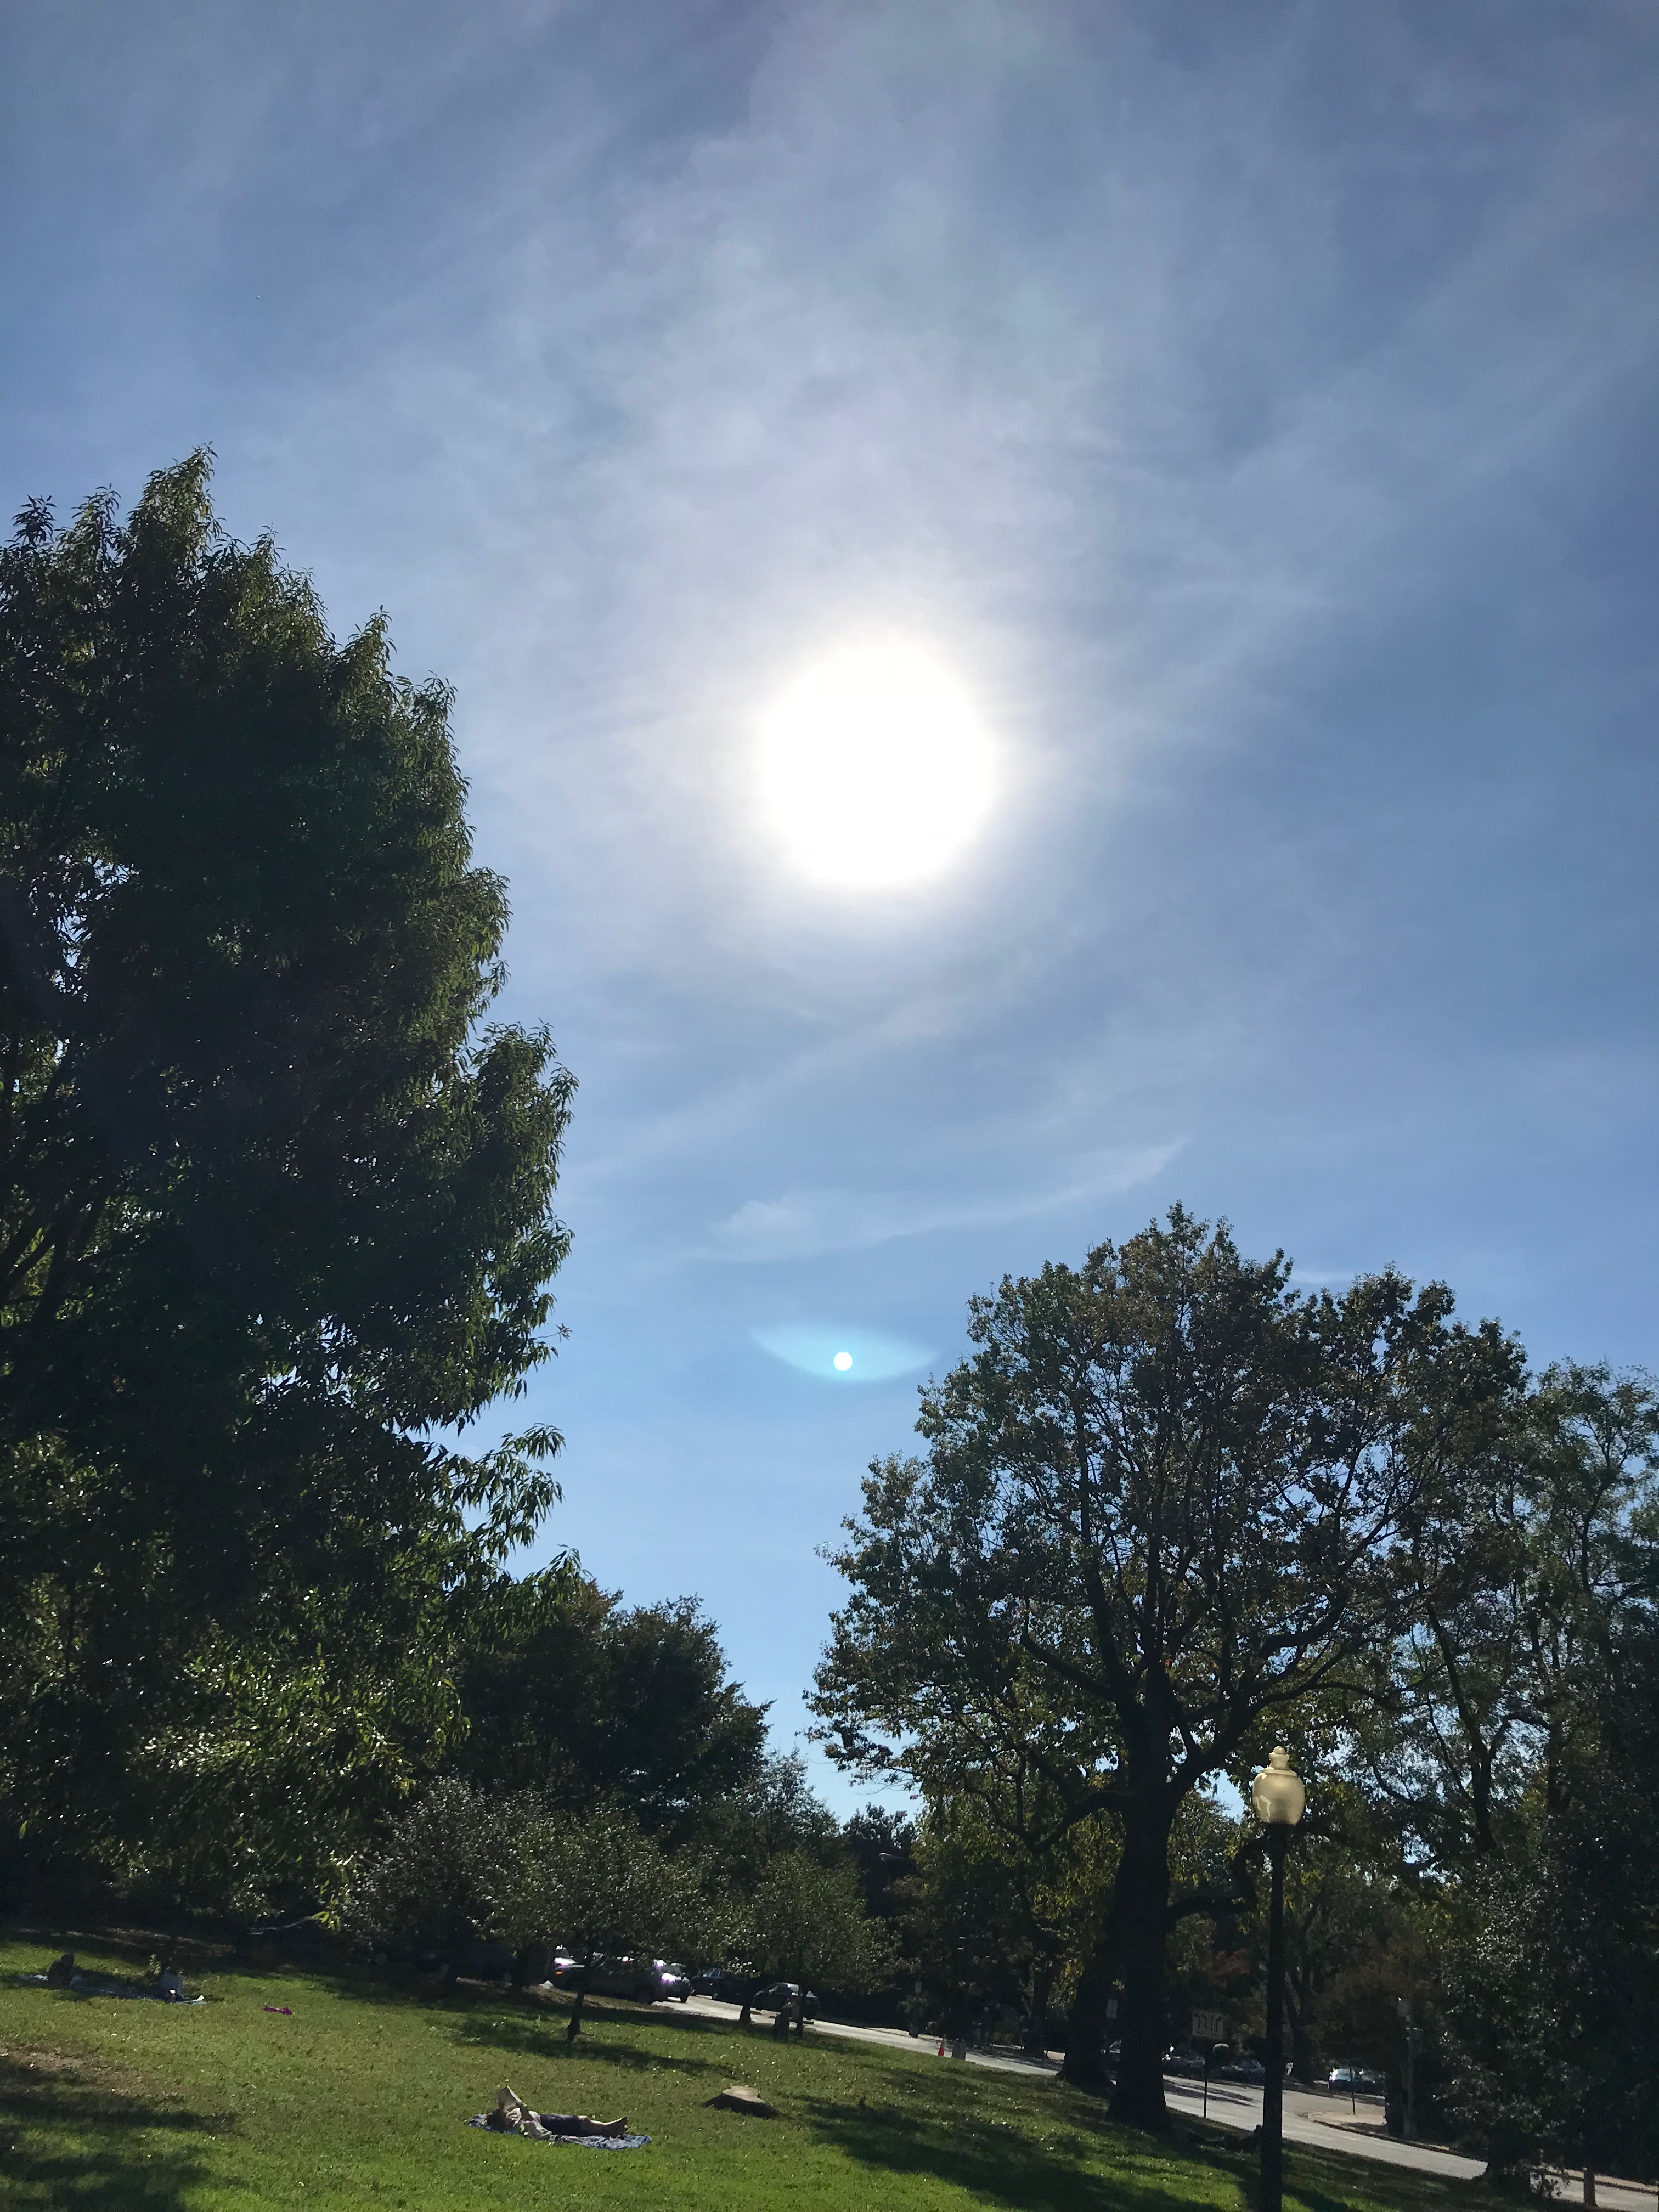flare: (831, 1350, 856, 1372)
